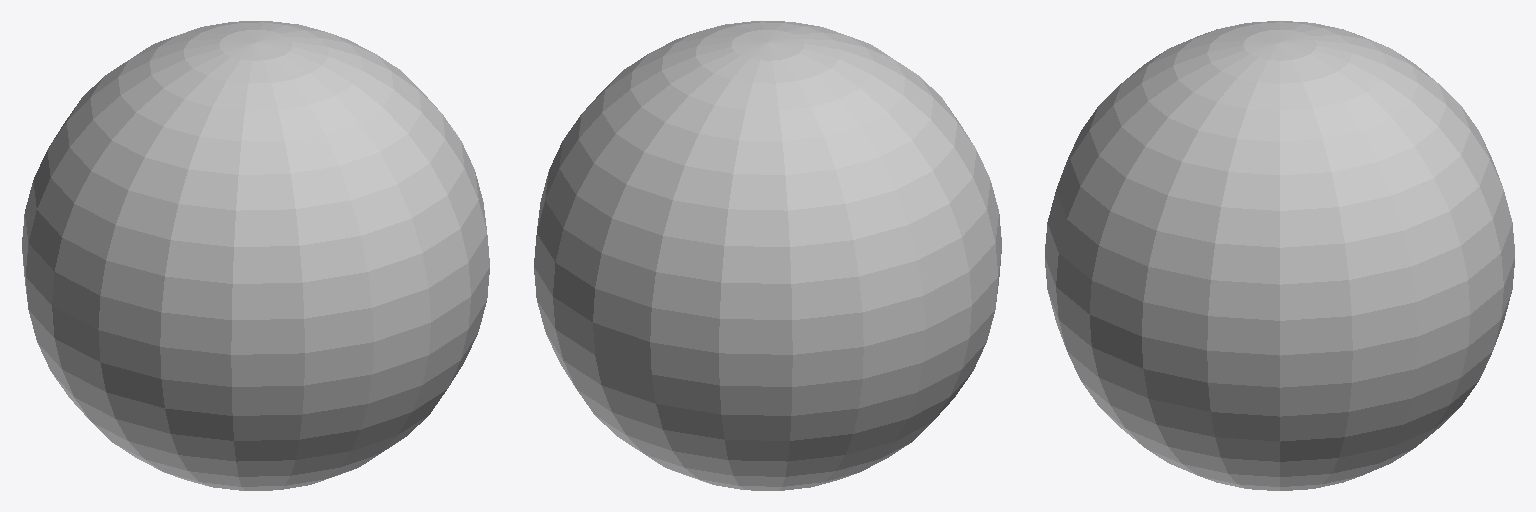
Rendered from Esfera1.obj.
3 renders of one model, left to right at view 1: azimuth 30°, elevation 25°; view 2: azimuth 150°, elevation 25°; view 3: azimuth 270°, elevation 25°, orthographic.
Parts seen in each view (by area): view 1: Esfera_Specular:pSphere1; view 2: Esfera_Specular:pSphere1; view 3: Esfera_Specular:pSphere1.
Part boxes in pixels (x1,y1,x2,y2): Esfera_Specular:pSphere1: (22, 21, 489, 490); Esfera_Specular:pSphere1: (534, 21, 1001, 490); Esfera_Specular:pSphere1: (1045, 21, 1514, 490).
Bounding box in the file's own units: 2 × 2 × 2.